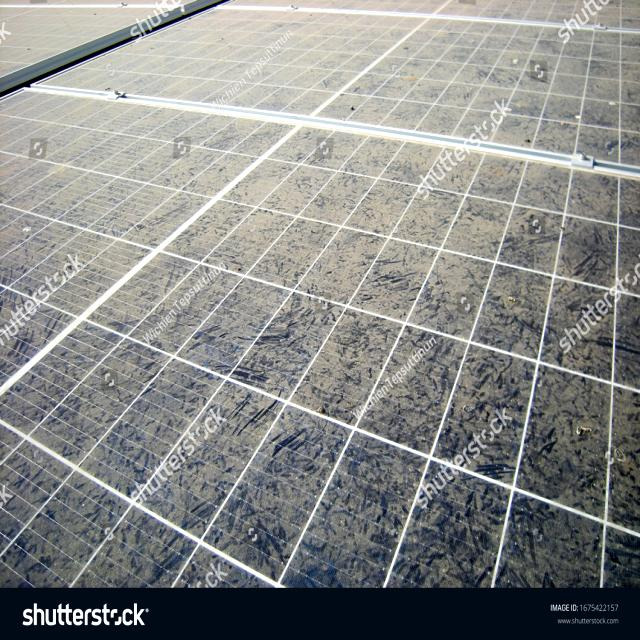dust: (86, 302, 240, 543), (126, 142, 356, 276), (395, 157, 506, 331), (438, 50, 612, 136), (298, 428, 398, 566), (11, 156, 104, 282), (190, 24, 326, 96), (550, 380, 602, 492), (476, 357, 516, 468), (328, 308, 366, 409), (400, 322, 429, 437)
